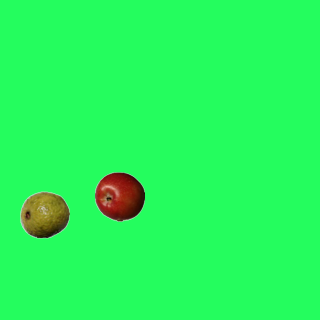Apple Braeburn: (94, 171, 144, 221)
Guava: (19, 189, 69, 239)
